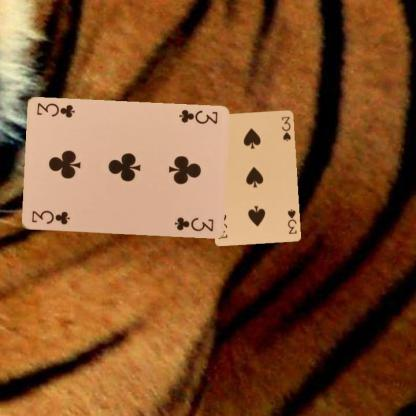3c: (29, 208, 71, 226), (176, 107, 218, 125)
3s: (285, 206, 297, 235)
